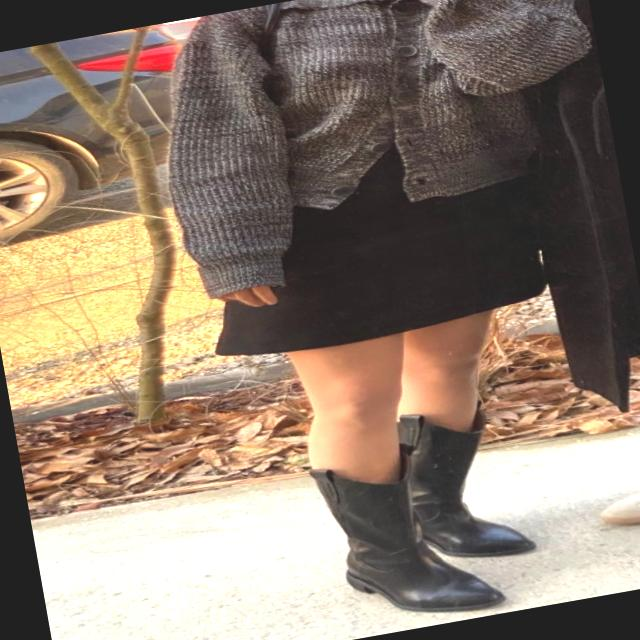cardigan: (141, 0, 621, 305)
skirt: (185, 148, 566, 368)
